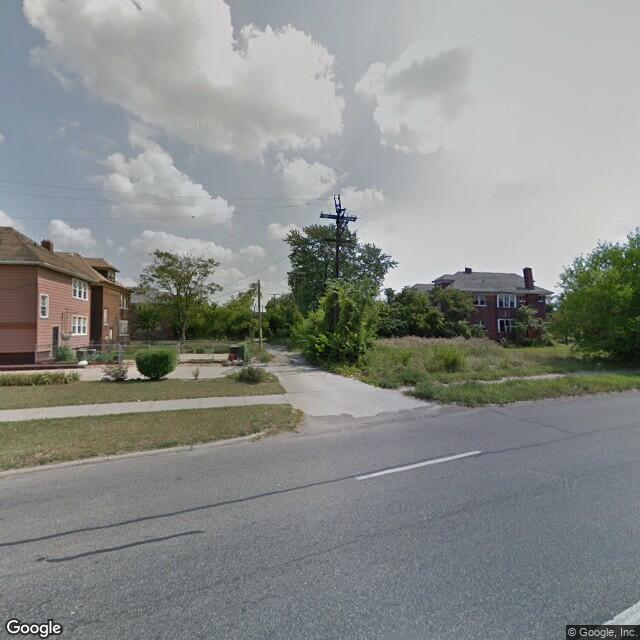litter: (136, 395, 141, 402), (574, 384, 576, 389)
